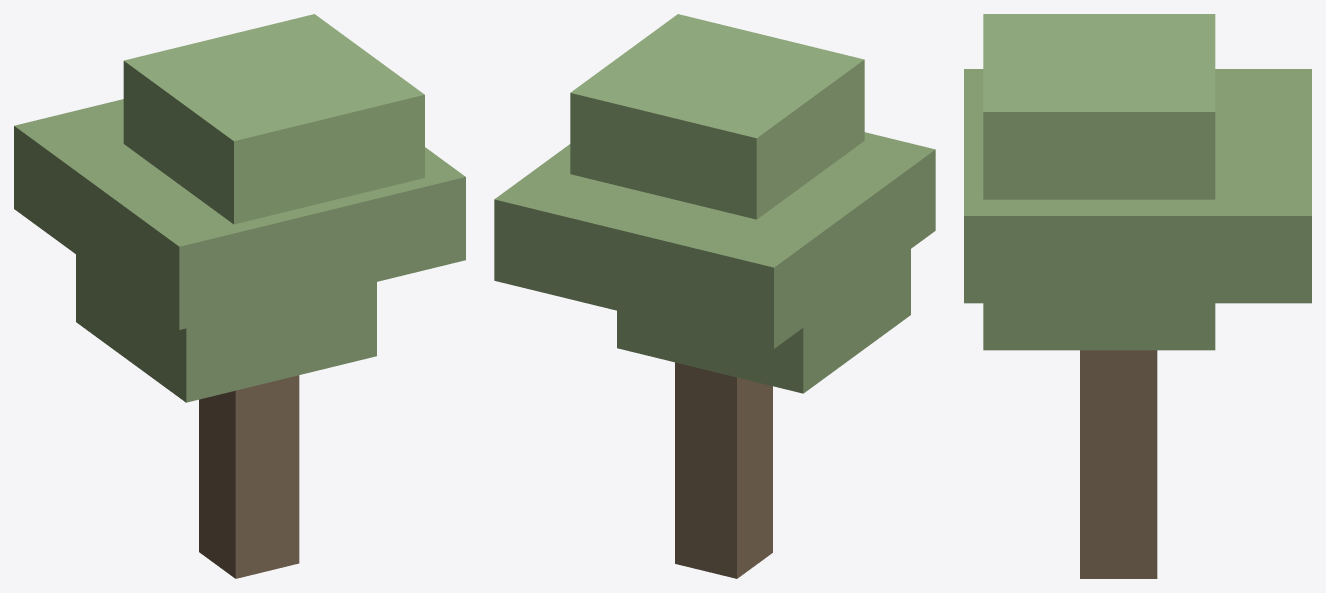
The model's file is manzano_silvestre_04.glb.
3 views of the same model, side by side, from view 1: azimuth 30°, elevation 25°; view 2: azimuth 150°, elevation 25°; view 3: azimuth 270°, elevation 25° (orthographic). The views are drawn at different scales.
Visible parts, largest first — view 1: manzano_silvestre_04; view 2: manzano_silvestre_04; view 3: manzano_silvestre_04.
Part boxes in pixels (bbox=[...]): manzano_silvestre_04: bbox=[14, 14, 465, 578]; manzano_silvestre_04: bbox=[494, 14, 935, 578]; manzano_silvestre_04: bbox=[964, 14, 1311, 578].
Size of the model in its own units: 1.8 by 2.9 by 1.8.
